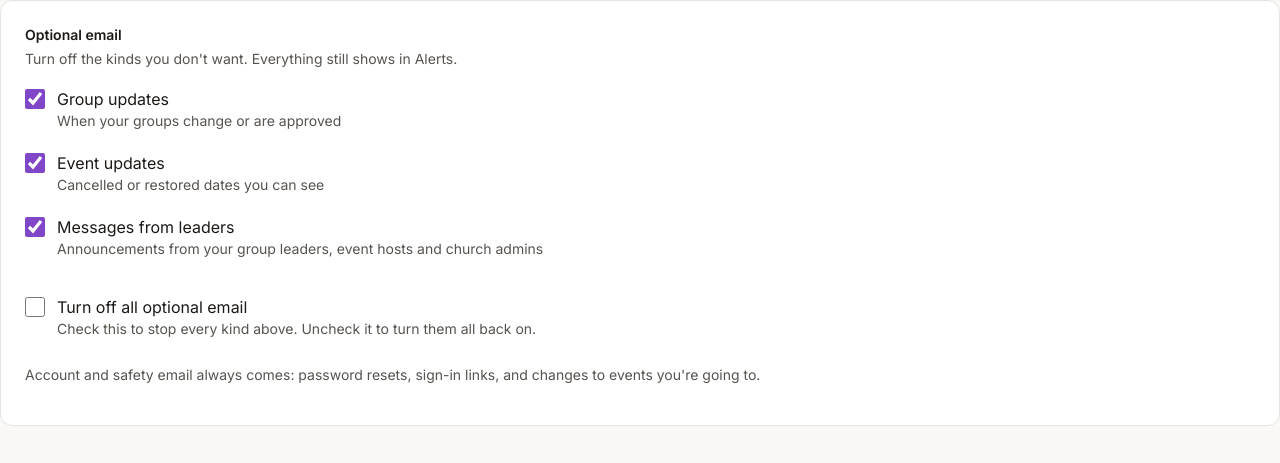
it: saves one kind on change with no Save button and says Saved
This screenshot has width=1280, height=463.
Click the checkbox labelled "Group updates When your groups change or are approved".
click(35, 99)  # box [25,89,45,109]
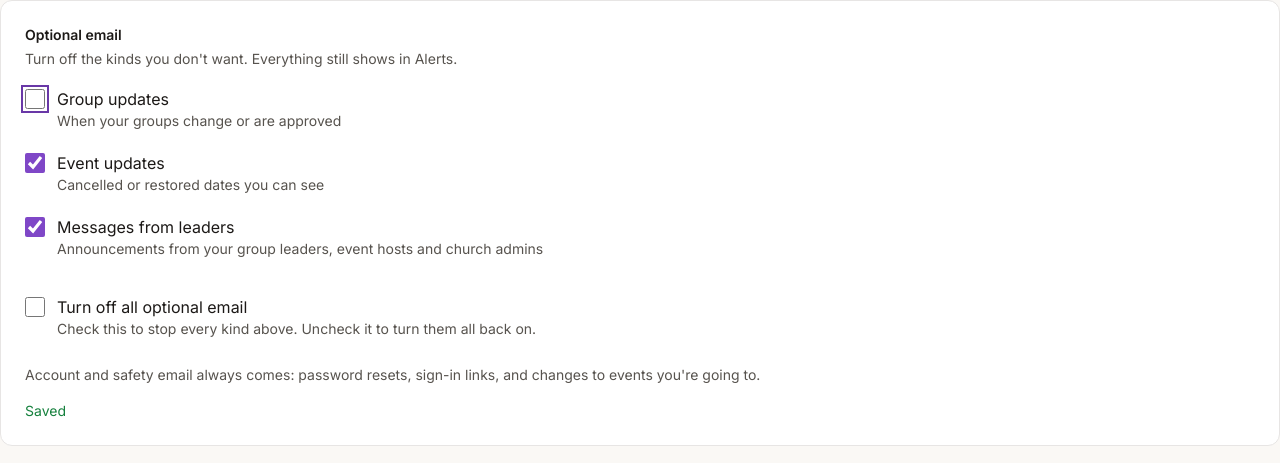
Check: the checkbox labelled "Group updates When your groups change or are approved" is not checked, box [25,89,45,109]
Check: the message reads "Saved", box [25,402,66,419]
